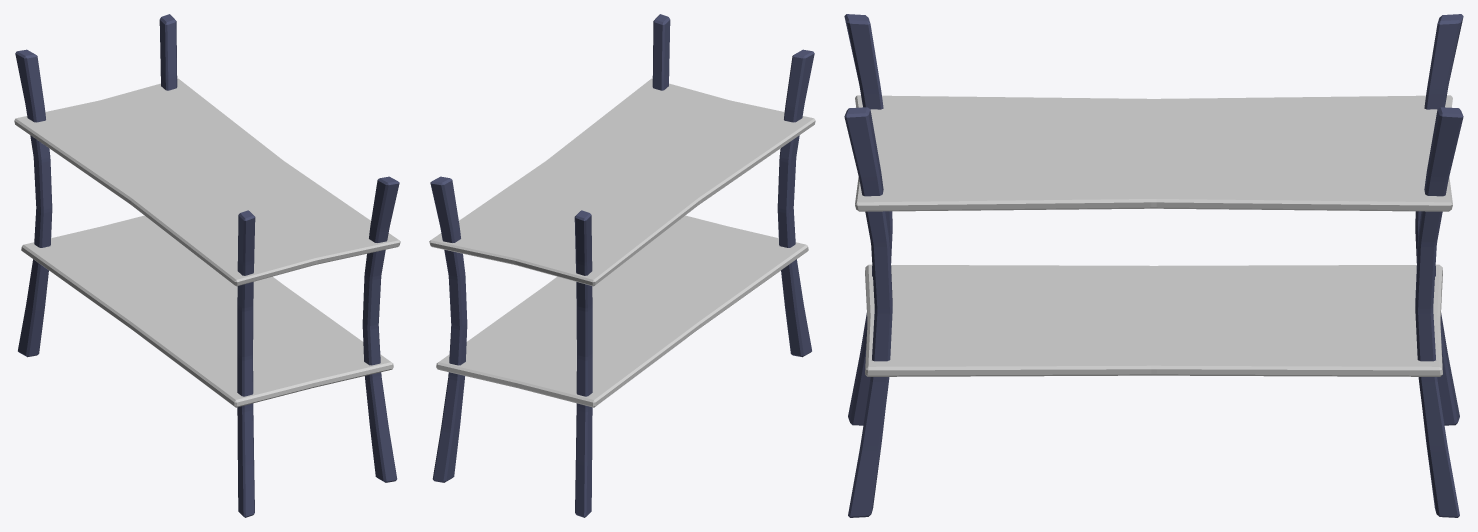
Rendered from shelf_sty.fbx.
3 renders of one model, left to right at view 1: azimuth 30°, elevation 25°; view 2: azimuth 150°, elevation 25°; view 3: azimuth 270°, elevation 25°, orthographic. The views are drawn at different scales.
Visible parts, largest first — view 1: SingleShelf.002; view 2: SingleShelf.002; view 3: SingleShelf.002.
Part boxes in pixels (x1,y1,x2,y2): SingleShelf.002: [14, 14, 400, 517]; SingleShelf.002: [429, 14, 815, 517]; SingleShelf.002: [844, 14, 1463, 517].
Size of the model in its own units: 195 by 338 by 469.
